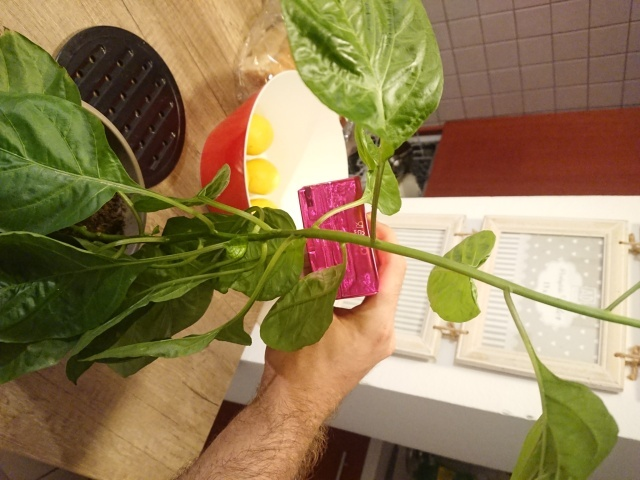Barcaffe Classic Original 225g: (296, 174, 382, 303)
